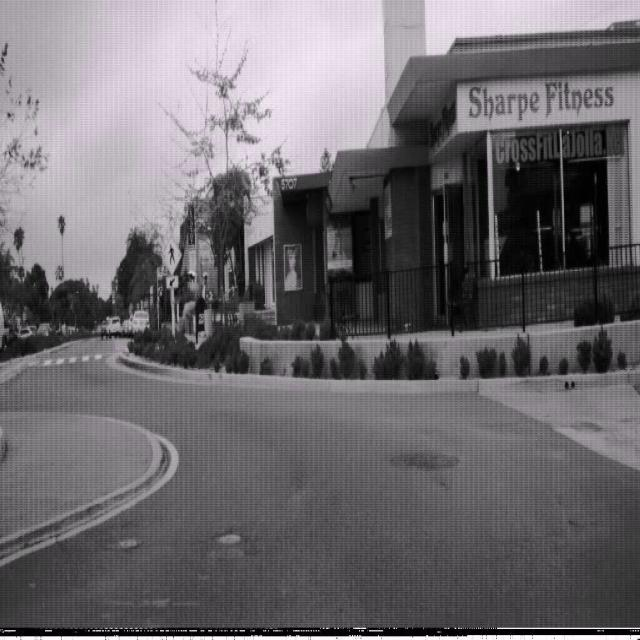pedestrianCrossing: (160, 233, 182, 276)
